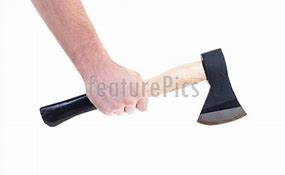axe: (39, 47, 248, 129)
